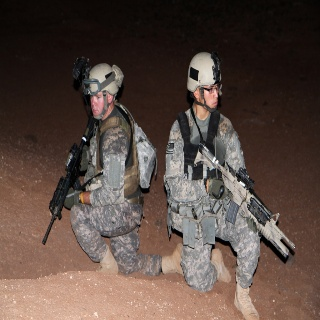rifle: (198, 141, 295, 261), (42, 112, 95, 245)
